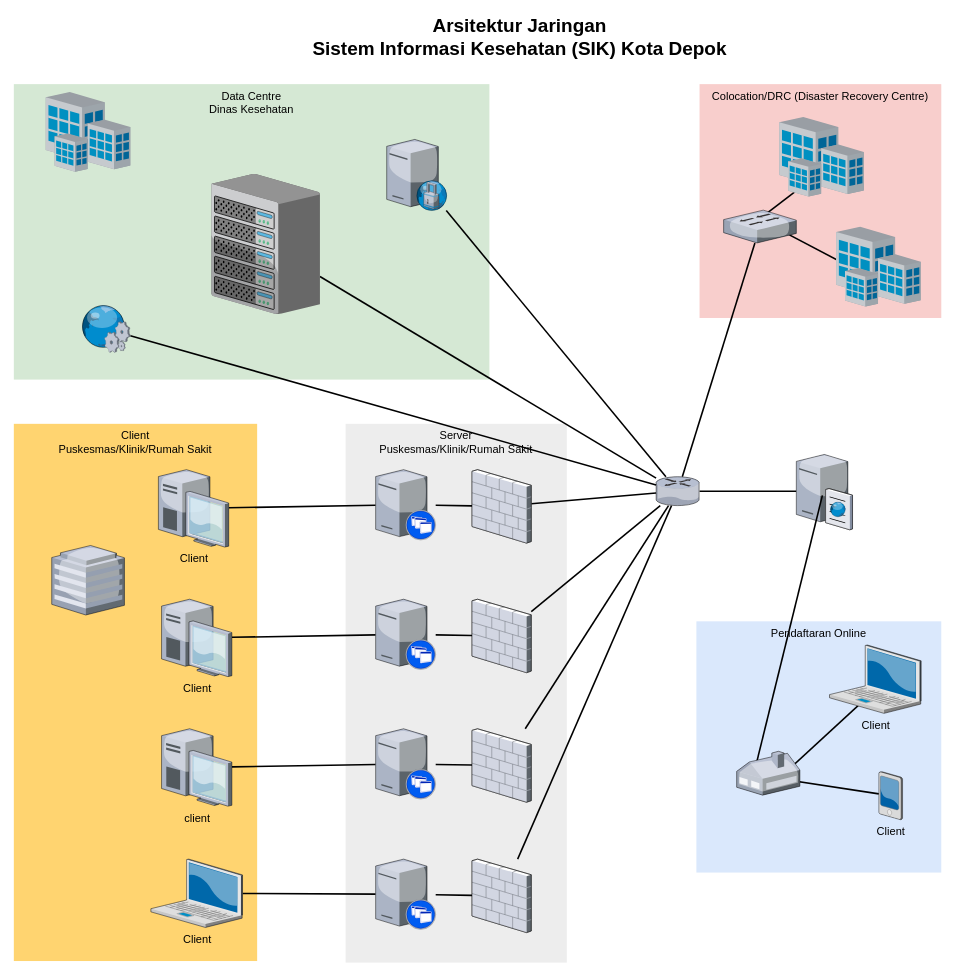
Image size: 954x976. Some labels were removed from this diagram. The shapes that lost their labels are listed below. From the top down, each one's centre as x and y in pixels, then its label:
At point (416, 174): "Secure Server".
At point (265, 243): "DNS".
At point (105, 328): "Web service".
At point (824, 490): "Web Server".
